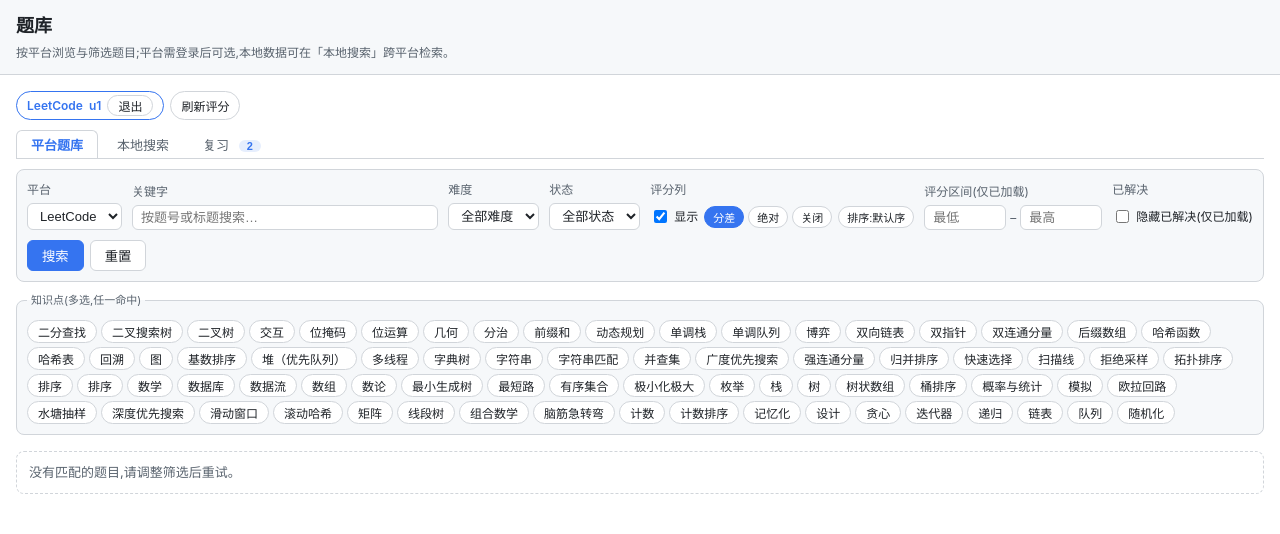
Scenario: problems page review subview (WP64) › saves intervals via PUT and surfaces the backend 400 message on invalid input
Click the tab with class "subviews__tab" showing "复习 2" at (232, 144), box top-left (188, 130), bottom-right (276, 158)
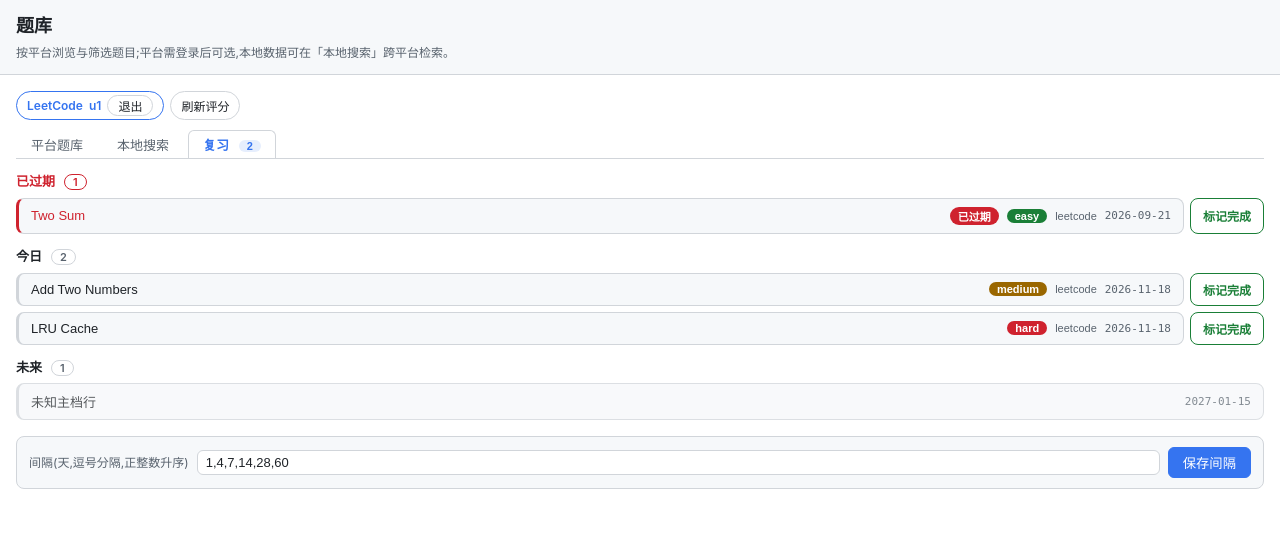
expect the field with id "review-intervals" holds "1,4,7,14,28,60": met
Replace the text in the field with id "review-intervals" with "9,3" at (678, 463), box top-left (197, 450), bottom-right (1160, 475)
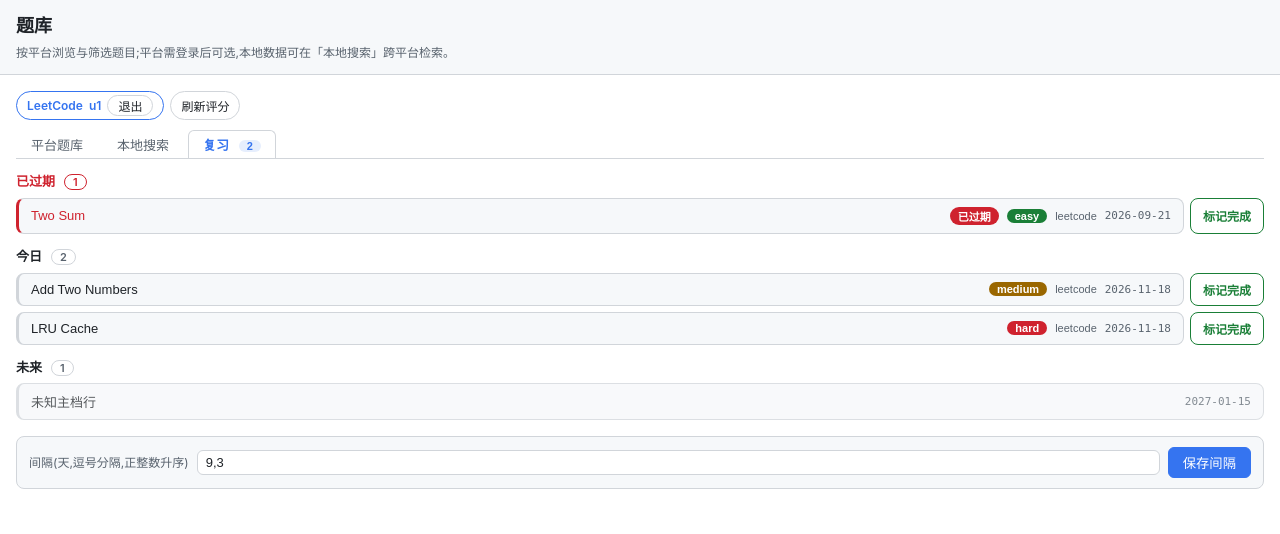
Click the button "保存间隔" at (1209, 463), box top-left (1168, 447), bottom-right (1251, 478)
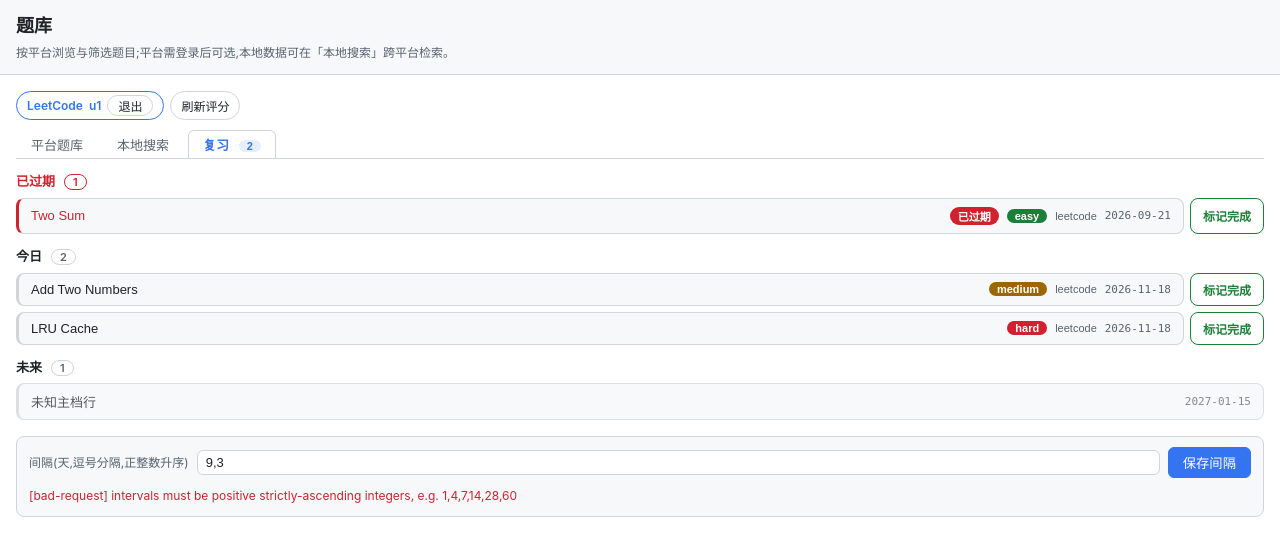
expect the message with class "review-config__msg--error" shows "intervals must be positive strictly-ascending integers": met, box top-left (29, 488), bottom-right (517, 503)
Replace the text in the field with id "review-intervals" with "1, 3, 9" at (678, 463), box top-left (197, 450), bottom-right (1160, 475)
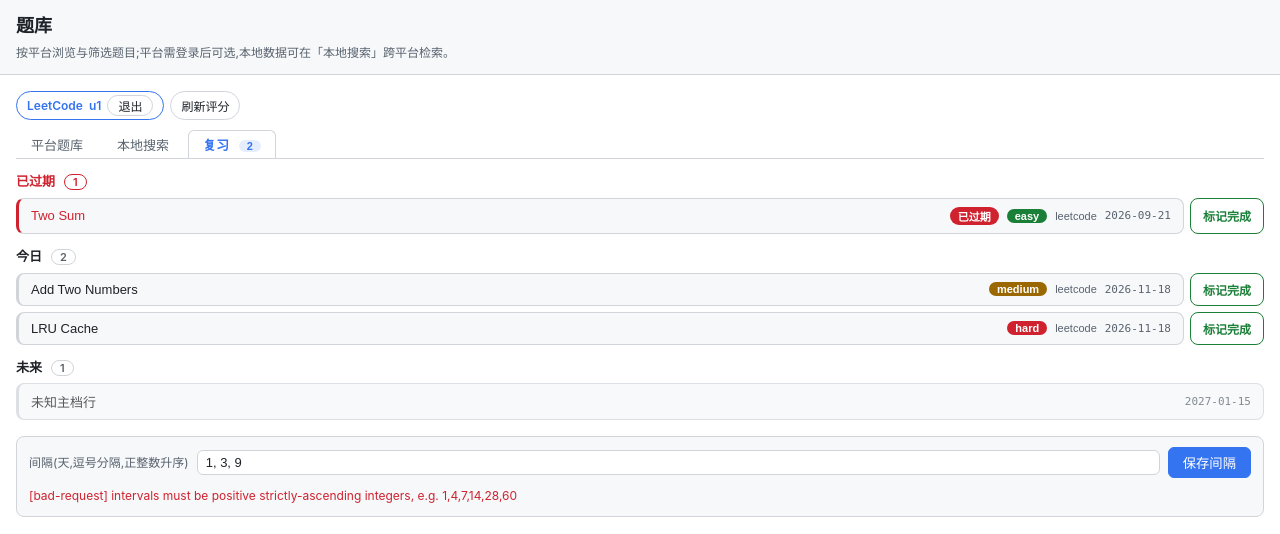
Click the button "保存间隔" at (1209, 463), box top-left (1168, 447), bottom-right (1251, 478)
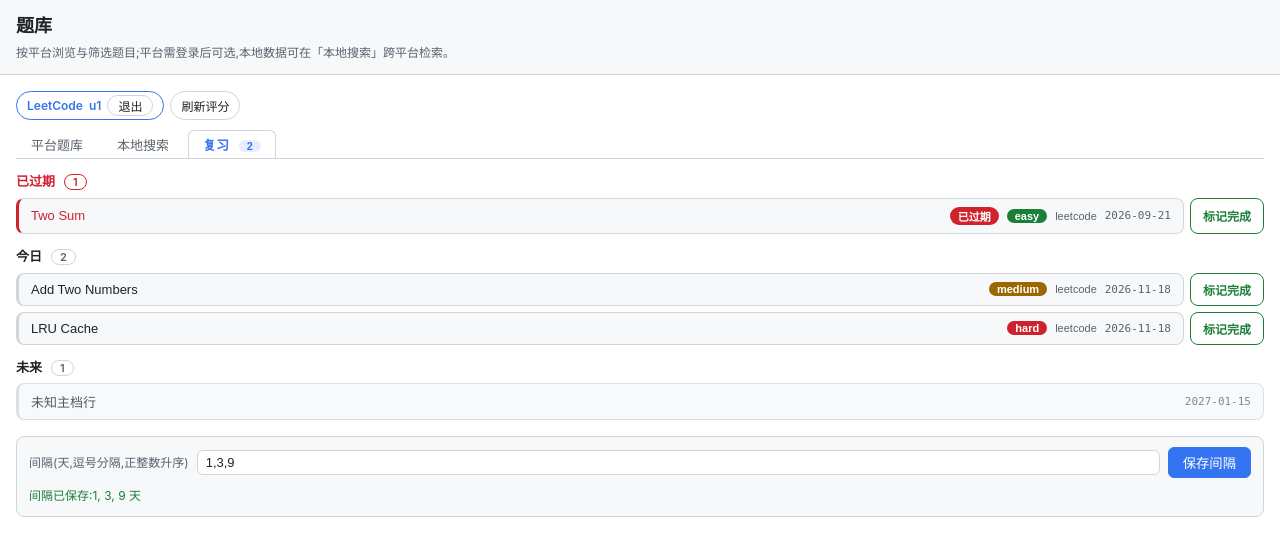
expect the message with class "review-config__msg--ok" shows "1, 3, 9": met, box top-left (29, 488), bottom-right (141, 503)
expect the field with id "review-intervals" holds "1,3,9": met, box top-left (197, 450), bottom-right (1160, 475)
